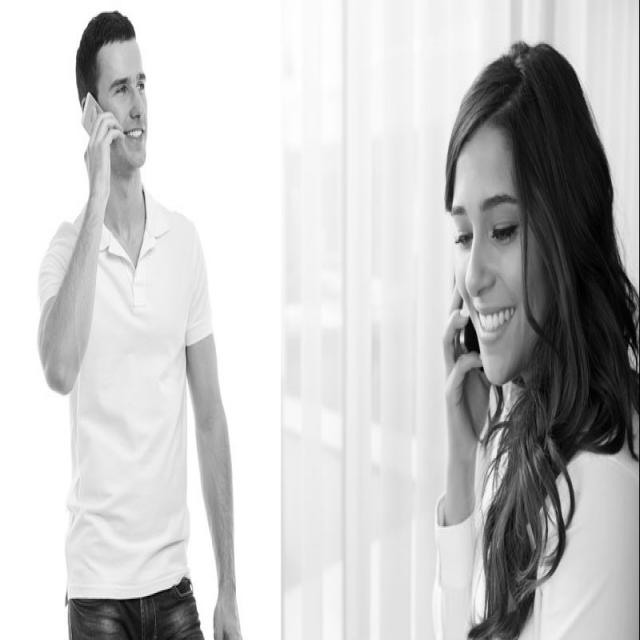phone: (421, 199, 503, 448), (74, 63, 136, 204)
